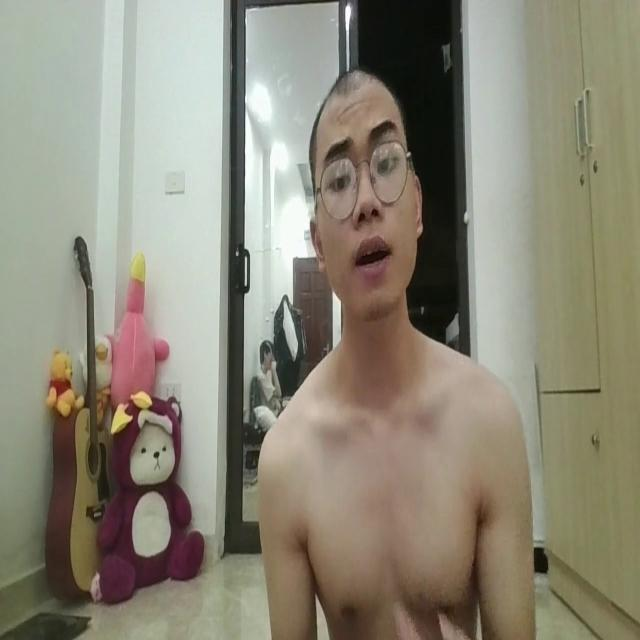student: (255, 64, 552, 640)
